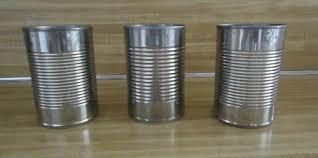Tin: (21, 5, 297, 141)
